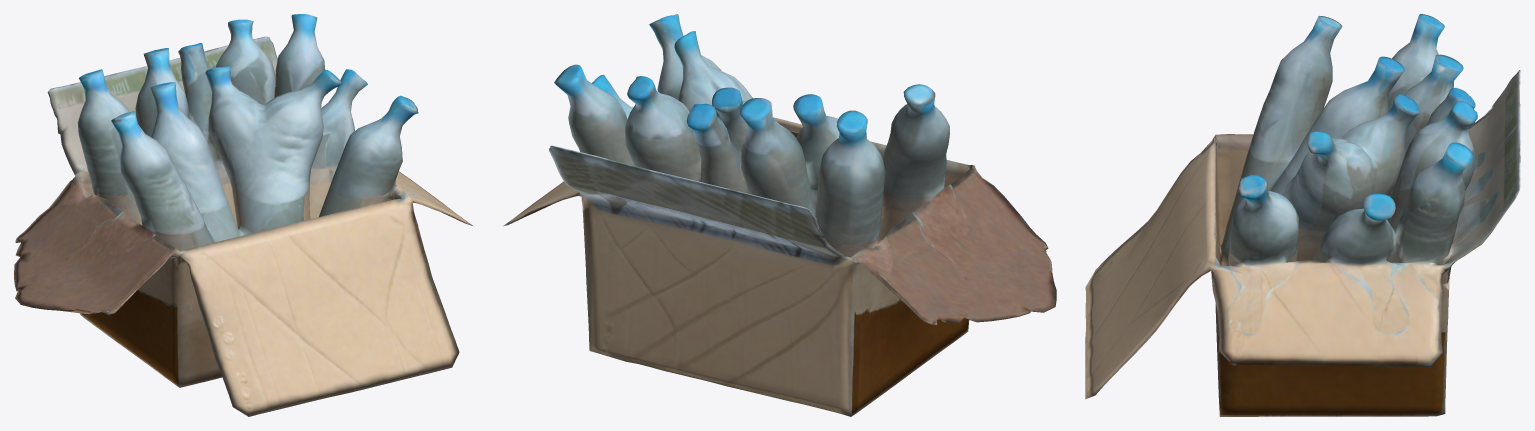
Rendered from Cardboard_Box_of_Plas_1224171246_texture.fbx.
3 views of the same model, side by side, from view 1: azimuth 30°, elevation 25°; view 2: azimuth 150°, elevation 25°; view 3: azimuth 270°, elevation 25° (orthographic). The views are drawn at different scales.
Visible parts, largest first — view 1: Mesh1_Mesh1.030; view 2: Mesh1_Mesh1.030; view 3: Mesh1_Mesh1.030.
Boxes of the visible parts, x1=… form: Mesh1_Mesh1.030: x1=14, y1=14, x2=472, y2=416; Mesh1_Mesh1.030: x1=503, y1=14, x2=1056, y2=416; Mesh1_Mesh1.030: x1=1085, y1=14, x2=1520, y2=416.
Size of the model in its own units: 200 by 115 by 159.
Materials: 1 (1 with a texture image).
